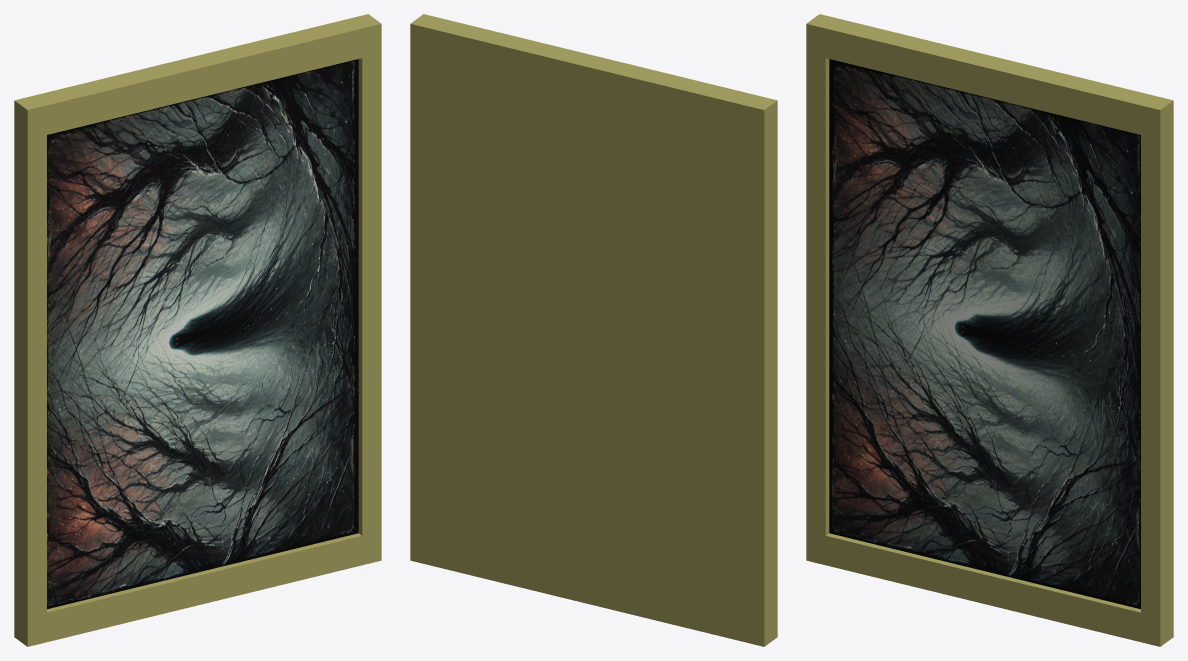
The model's file is picture_3.fbx.
3 renders of one model, left to right at view 1: azimuth 30°, elevation 25°; view 2: azimuth 150°, elevation 25°; view 3: azimuth 330°, elevation 25°, orthographic.
Parts seen in each view (by area): view 1: Cube; view 2: Cube; view 3: Cube.
Part boxes in pixels (bbox=[...]): Cube: bbox=[14, 14, 381, 646]; Cube: bbox=[410, 14, 777, 646]; Cube: bbox=[806, 14, 1173, 646].
Size of the model in its own units: 200 by 290 by 13.09.
